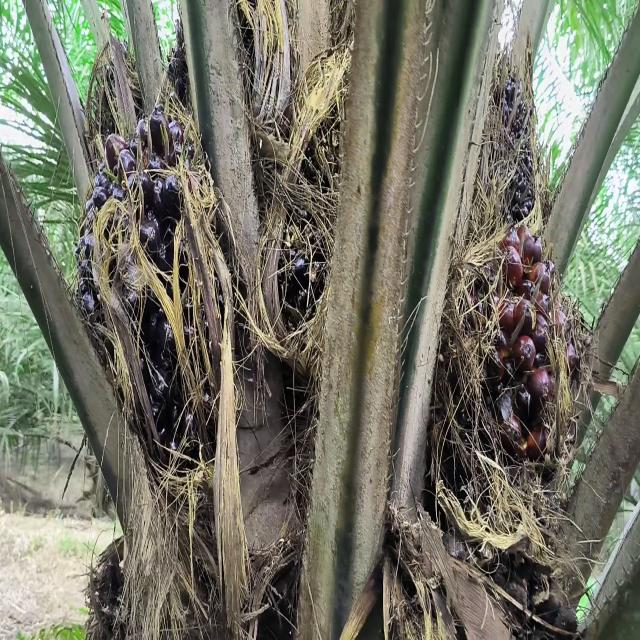palm-oil: (411, 228, 599, 586), (74, 105, 233, 474), (473, 63, 551, 257), (258, 224, 332, 371)
